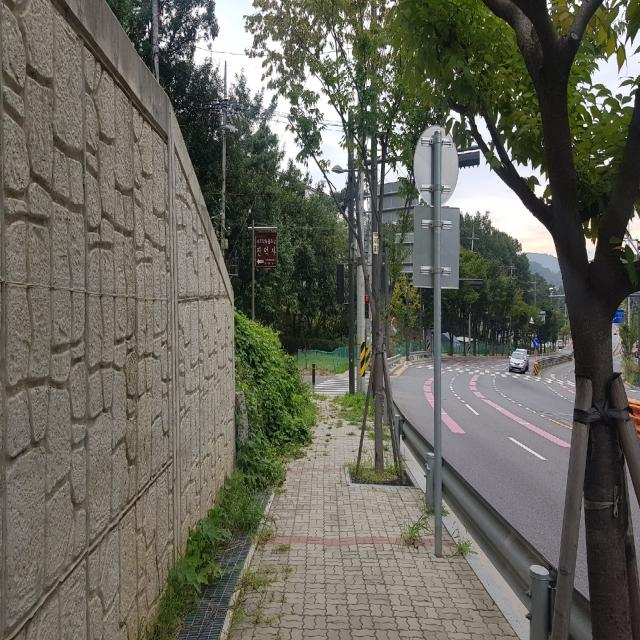빨간불: (364, 292, 370, 323)
횡단보도: (311, 377, 369, 394)
